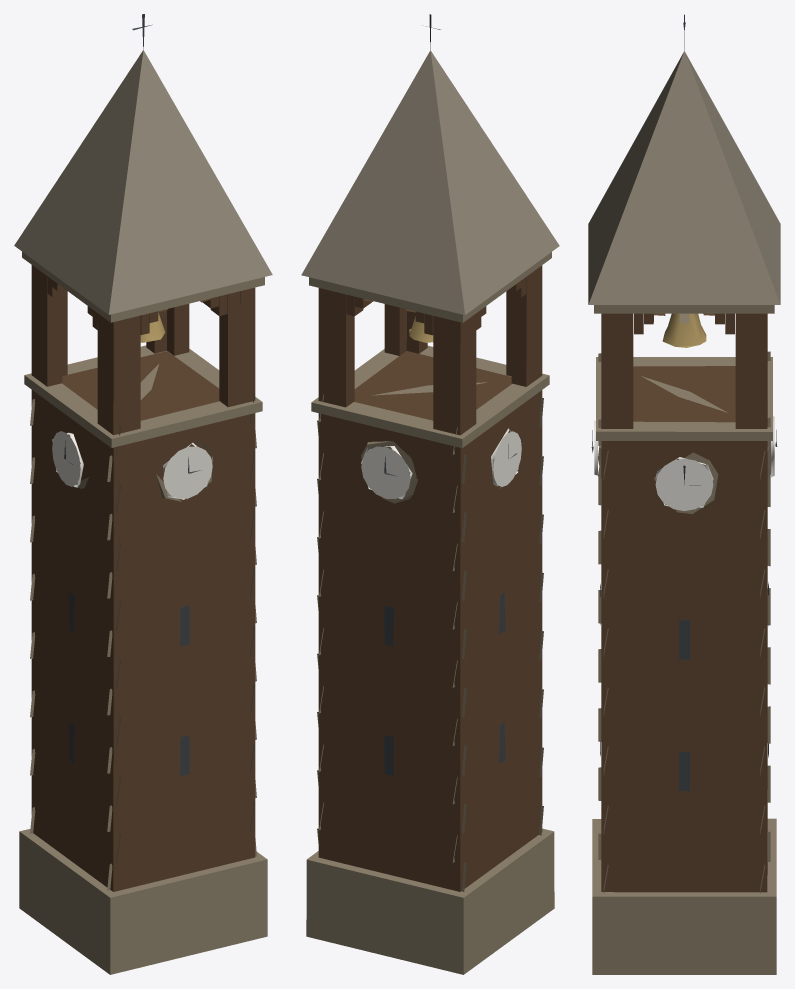
The model's file is bell-tower-lod1.glb.
The picture shows the model from 3 angles, left to right: view 1: azimuth 30°, elevation 25°; view 2: azimuth 150°, elevation 25°; view 3: azimuth 270°, elevation 25°; orthographic projection.
Parts seen in each view (by area): view 1: bell-tower.001; view 2: bell-tower.001; view 3: bell-tower.001.
Part boxes in pixels (x1=…): bell-tower.001: x1=14, y1=14, x2=272, y2=974; bell-tower.001: x1=301, y1=14, x2=559, y2=974; bell-tower.001: x1=588, y1=14, x2=780, y2=974.
Bounding box in the file's own units: 5.3 × 28.04 × 5.3.
